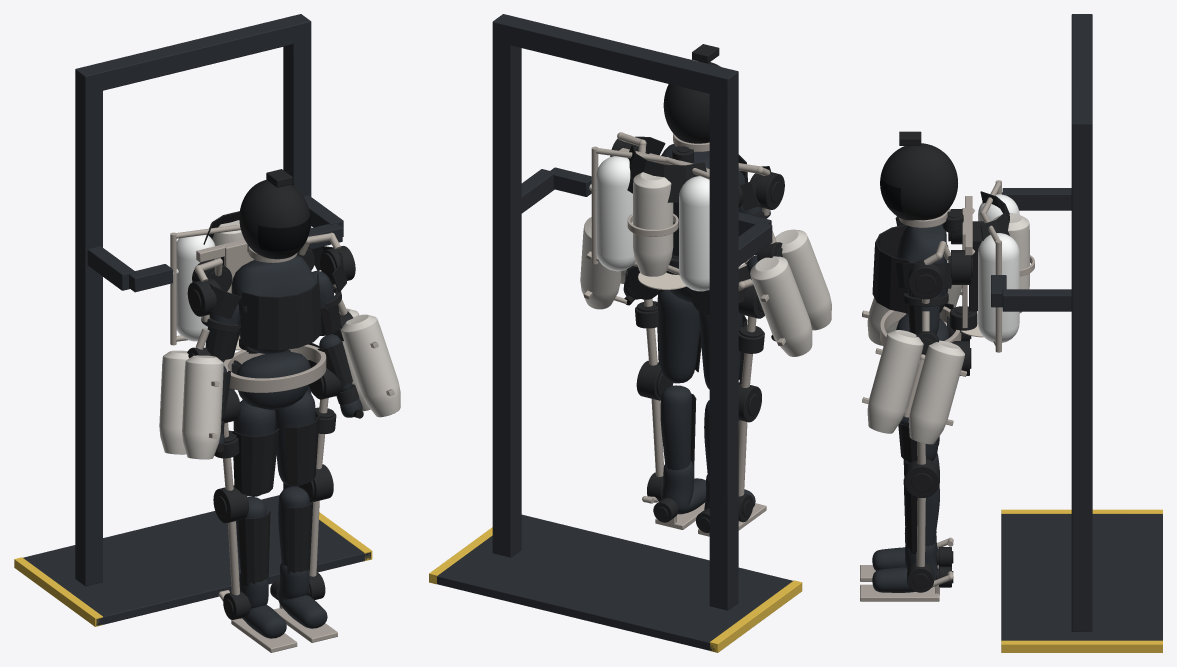
Rendered from kestrel.glb.
3 renders of one model, left to right at view 1: azimuth 30°, elevation 25°; view 2: azimuth 150°, elevation 25°; view 3: azimuth 270°, elevation 25°, orthographic. The views are drawn at different scales.
Visible parts, largest first — view 1: GEO-kst_stand_base, GEO-kst_stand_post-1, GEO-kst_stand_top, GEO-kst_stand_post1, GEO-kst_helmet, GEO-kst_armor_chest, GEO-kst_turbine_arm.R1, GEO-kst_turbine_arm.L1, GEO-kst_pilot_torso, GEO-kst_pilot_pelvis, GEO-kst_armor_thigh.R, GEO-kst_turbine_arm.R2 (+29 smaller); view 2: GEO-kst_stand_base, GEO-kst_stand_post-1, GEO-kst_stand_post1, GEO-kst_stand_top, GEO-kst_tank.L, GEO-kst_turbine_arm.R2, GEO-kst_turbine_back, GEO-kst_tank.R, GEO-kst_pilot_thigh.L, GEO-kst_turbine_arm.R1, GEO-kst_pilot_shank.L, GEO-kst_helmet (+18 smaller); view 3: GEO-kst_stand_base, GEO-kst_stand_post1, GEO-kst_helmet, GEO-kst_turbine_arm.L1, GEO-kst_turbine_arm.L2, GEO-kst_tank.L, GEO-kst_stand_top, GEO-kst_armor_chest, GEO-kst_stand_stripe1, GEO-kst_stand_arm1, GEO-kst_pilot_torso, GEO-kst_stand_arm-1 (+23 smaller).
Boxes of the visible parts, bbox=[...] form: GEO-kst_stand_base: bbox=[23, 495, 370, 625]; GEO-kst_stand_post-1: bbox=[75, 71, 102, 586]; GEO-kst_stand_top: bbox=[75, 14, 311, 94]; GEO-kst_stand_post1: bbox=[283, 23, 311, 503]; GEO-kst_helmet: bbox=[239, 180, 310, 259]; GEO-kst_armor_chest: bbox=[240, 273, 321, 350]; GEO-kst_turbine_arm.R1: bbox=[182, 355, 223, 459]; GEO-kst_turbine_arm.L1: bbox=[341, 314, 400, 417]; GEO-kst_pilot_torso: bbox=[231, 255, 319, 353]; GEO-kst_pilot_pelvis: bbox=[236, 351, 310, 410]; GEO-kst_armor_thigh.R: bbox=[232, 428, 279, 495]; GEO-kst_turbine_arm.R2: bbox=[159, 350, 189, 454]; GEO-kst_stand_base: bbox=[435, 514, 792, 651]; GEO-kst_stand_post-1: bbox=[709, 73, 738, 610]; GEO-kst_stand_post1: bbox=[492, 23, 521, 557]; GEO-kst_stand_top: bbox=[492, 14, 738, 97]; GEO-kst_tank.L: bbox=[596, 156, 635, 271]; GEO-kst_turbine_arm.R2: bbox=[750, 256, 812, 356]; GEO-kst_turbine_back: bbox=[633, 172, 673, 276]; GEO-kst_tank.R: bbox=[679, 176, 709, 291]; GEO-kst_pilot_thigh.L: bbox=[657, 290, 699, 383]; GEO-kst_turbine_arm.R1: bbox=[775, 229, 831, 330]; GEO-kst_pilot_shank.L: bbox=[660, 385, 692, 470]; GEO-kst_helmet: bbox=[663, 61, 720, 143]; GEO-kst_stand_base: bbox=[1001, 514, 1162, 640]; GEO-kst_stand_post1: bbox=[1071, 125, 1092, 631]; GEO-kst_helmet: bbox=[880, 143, 957, 220]; GEO-kst_turbine_arm.L1: bbox=[867, 330, 923, 433]; GEO-kst_turbine_arm.L2: bbox=[908, 340, 964, 444]; GEO-kst_tank.L: bbox=[978, 233, 1019, 342]; GEO-kst_stand_top: bbox=[1071, 14, 1092, 141]; GEO-kst_armor_chest: bbox=[872, 224, 909, 313]; GEO-kst_stand_stripe1: bbox=[1001, 640, 1162, 652]; GEO-kst_stand_arm1: bbox=[1002, 289, 1071, 311]; GEO-kst_pilot_torso: bbox=[896, 224, 947, 315]; GEO-kst_stand_arm-1: bbox=[1002, 188, 1071, 210].
Size of the model in its own units: 1.23 by 2.19 by 1.16.
